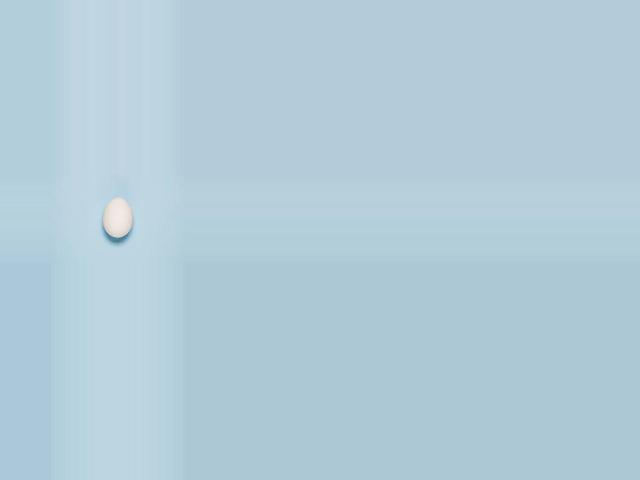egg: (102, 197, 132, 238)
